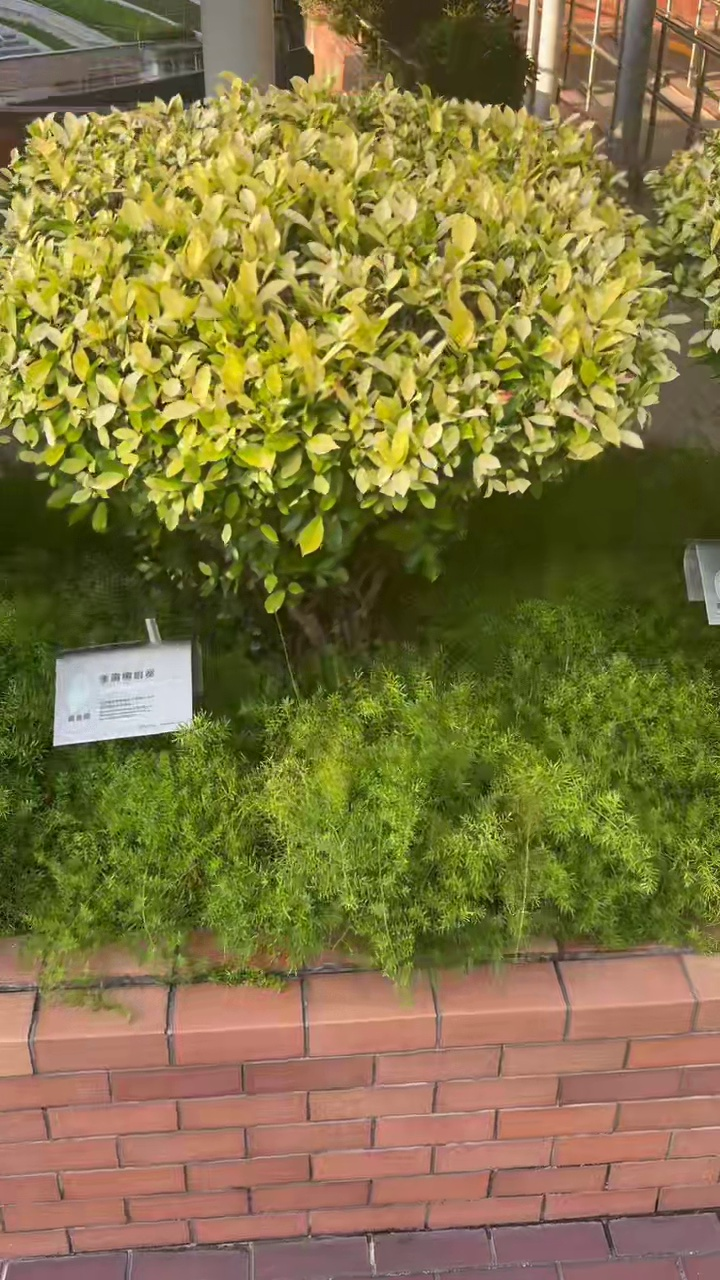Golden-leaves Fig: (0, 79, 676, 612)
